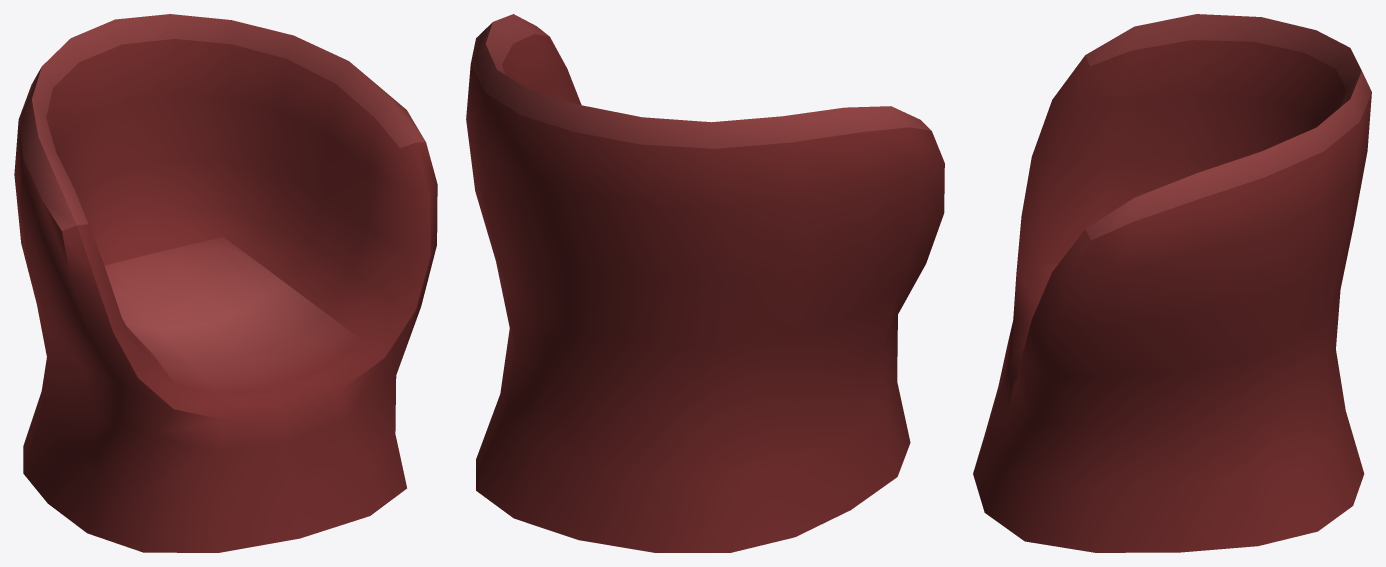
File: RedArmchair.glb
3 views of the same model, side by side, from view 1: azimuth 30°, elevation 25°; view 2: azimuth 150°, elevation 25°; view 3: azimuth 270°, elevation 25° (orthographic). The views are drawn at different scales.
Parts seen in each view (by area): view 1: armchairSkirt; view 2: armchairSkirt; view 3: armchairSkirt.
Part boxes in pixels (<box>): armchairSkirt: <box>14,14,437,552</box>; armchairSkirt: <box>466,14,944,552</box>; armchairSkirt: <box>973,14,1371,552</box>.
Size of what is drawn, in the model's own units: 1.19 by 1.16 by 1.04.
1 material, 1 textured.
